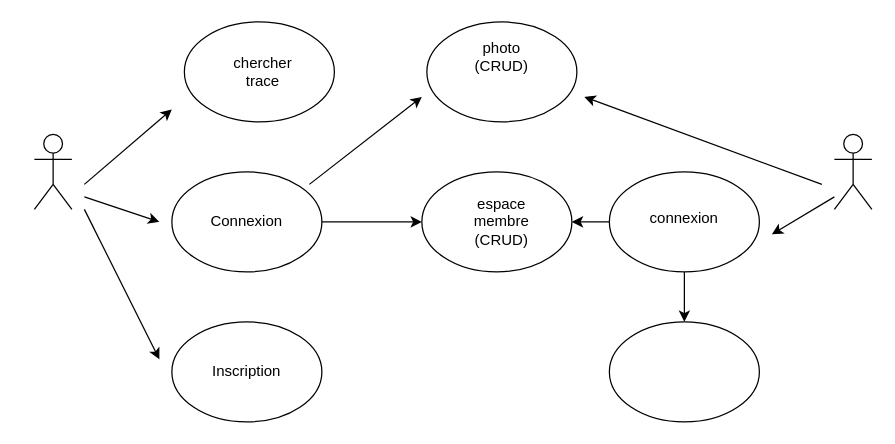
This 895x444 diagram has some shape labels left out. The shapes that lost their labels are listed below. From the top down, each one's centre as x and y in pixels, then its label:
At pixel 52 171: "utilisateur".
At pixel 852 171: "admin".
At pixel 683 371: "espace admin (CRUD)".
